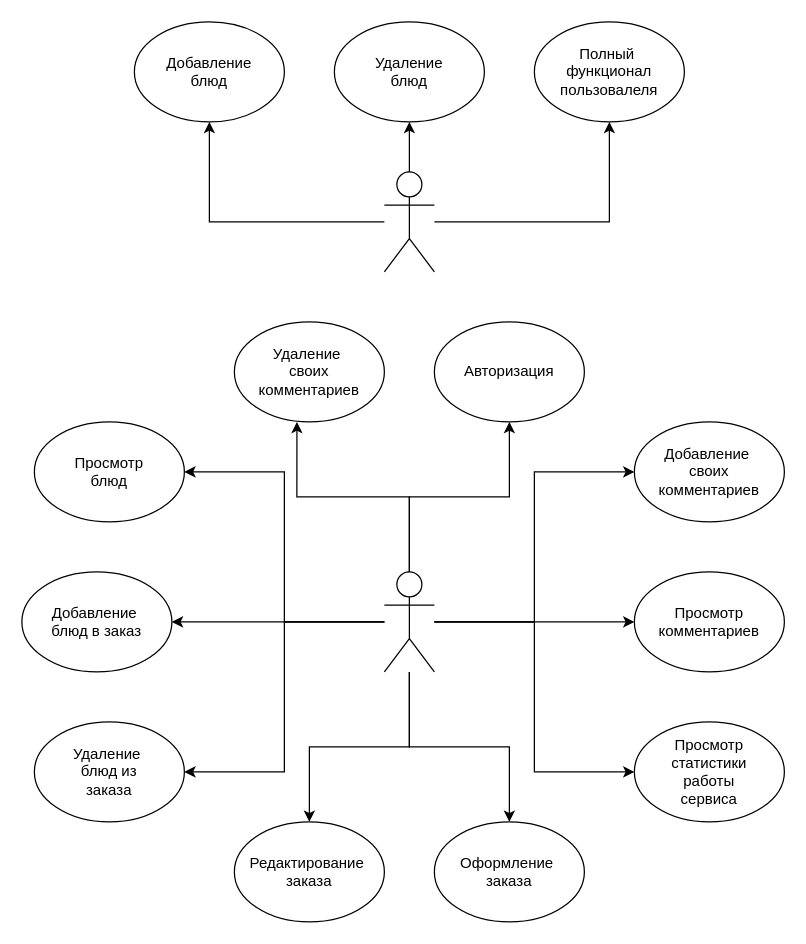
Some shapes in this 806 by 944 pixel diagram are drawn without their labels. The centre of each missing label's shape, as x and y in pixels:
Администратор: point 408,221
Пользователь: point 408,621
